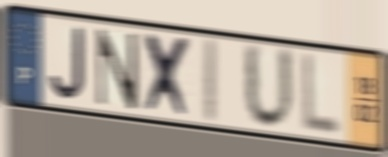I: (201, 35, 220, 128)
J: (47, 24, 87, 103)
L: (299, 50, 343, 141)
N: (94, 26, 141, 113)
U: (242, 39, 297, 134)
X: (143, 30, 195, 122)
